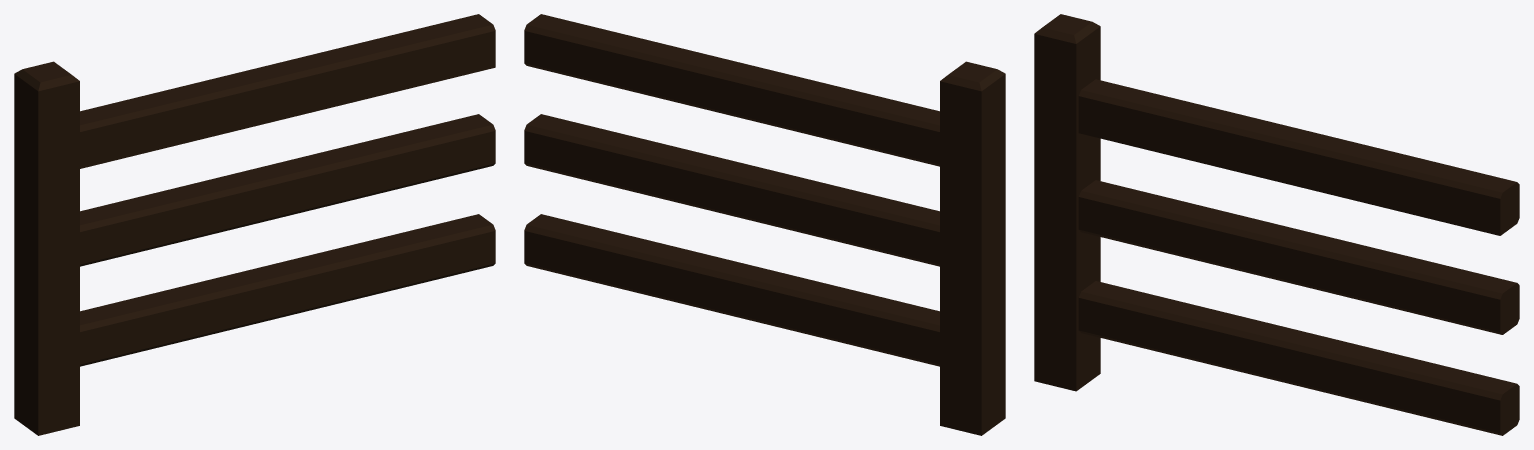
3 renders of one model, left to right at view 1: azimuth 30°, elevation 25°; view 2: azimuth 150°, elevation 25°; view 3: azimuth 330°, elevation 25°, orthographic.
Parts seen in each view (by area): view 1: Cube; view 2: Cube; view 3: Cube.
Part boxes in pixels (left/top/right/bottom): Cube: left=14, top=14, right=495, bottom=435; Cube: left=524, top=14, right=1005, bottom=435; Cube: left=1034, top=14, right=1519, bottom=435.
Bounding box in the file's own units: 1100 × 800 × 100.
Materials: 1 (1 with a texture image).
